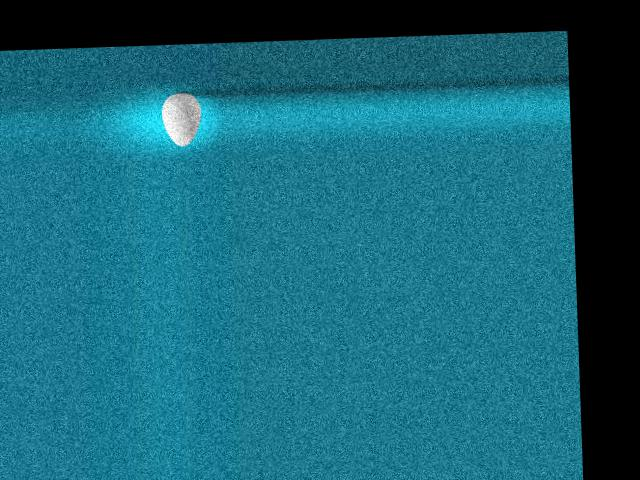egg: (161, 91, 203, 146)
